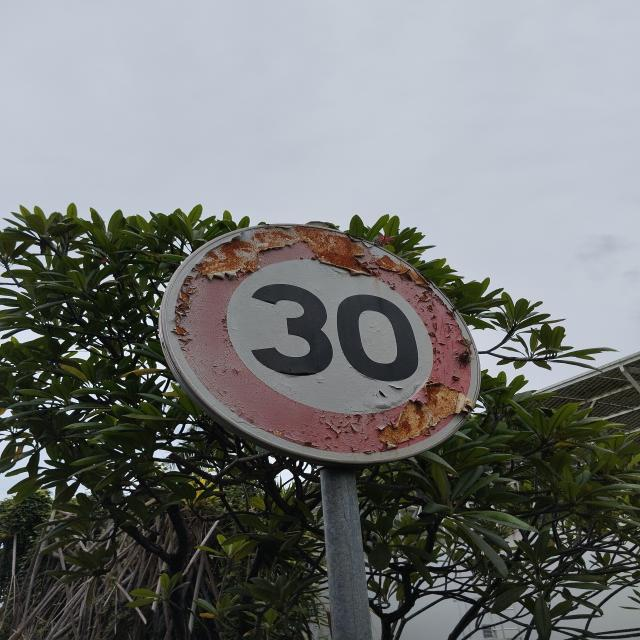Limite-30: (159, 223, 480, 467)
